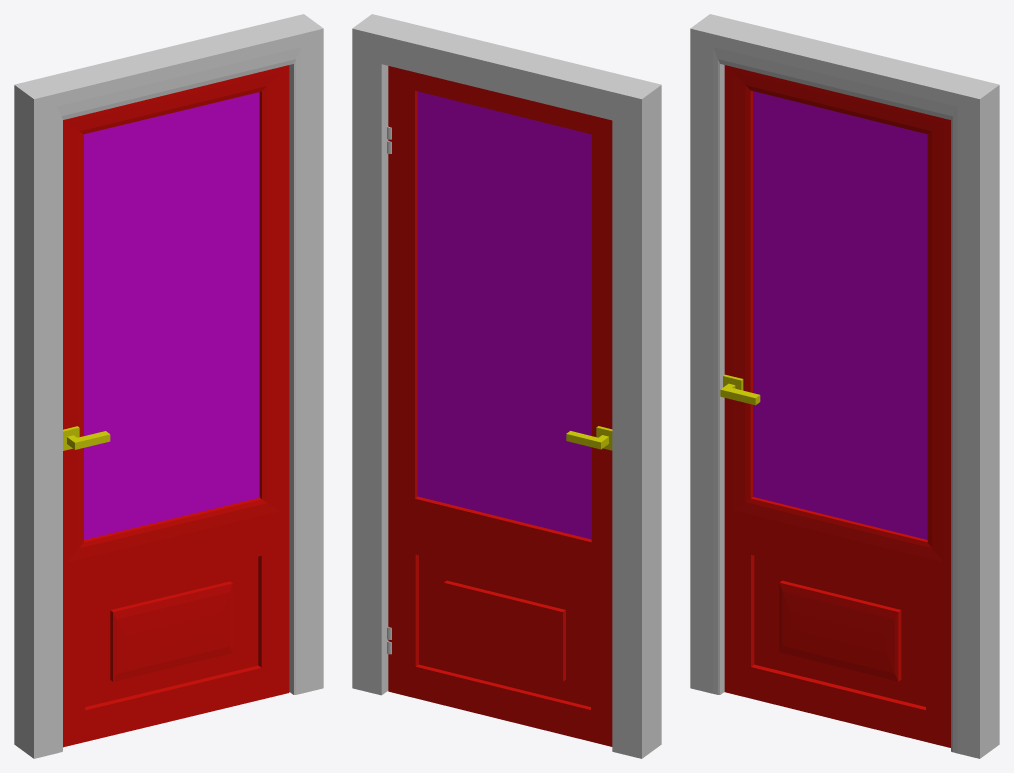
File: doorfix.fbx
3 renders of one model, left to right at view 1: azimuth 30°, elevation 25°; view 2: azimuth 150°, elevation 25°; view 3: azimuth 330°, elevation 25°, orthographic.
Parts seen in each view (by area): view 1: Cube.001, Cube; view 2: Cube.001, Cube; view 3: Cube.001, Cube.
Part boxes in pixels (bbox=[...]): Cube.001: bbox=[63, 65, 289, 747]; Cube: bbox=[14, 14, 323, 758]; Cube.001: bbox=[387, 66, 612, 746]; Cube: bbox=[352, 14, 661, 758]; Cube.001: bbox=[720, 65, 950, 747]; Cube: bbox=[690, 14, 999, 758].
Bounding box in the file's own units: 519 × 1130 × 94.1.
